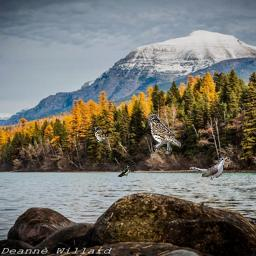Cuckoo: (189, 157, 229, 182)
Sparrow: (148, 114, 181, 154), (95, 127, 112, 143)
Swallow: (118, 164, 129, 177)
